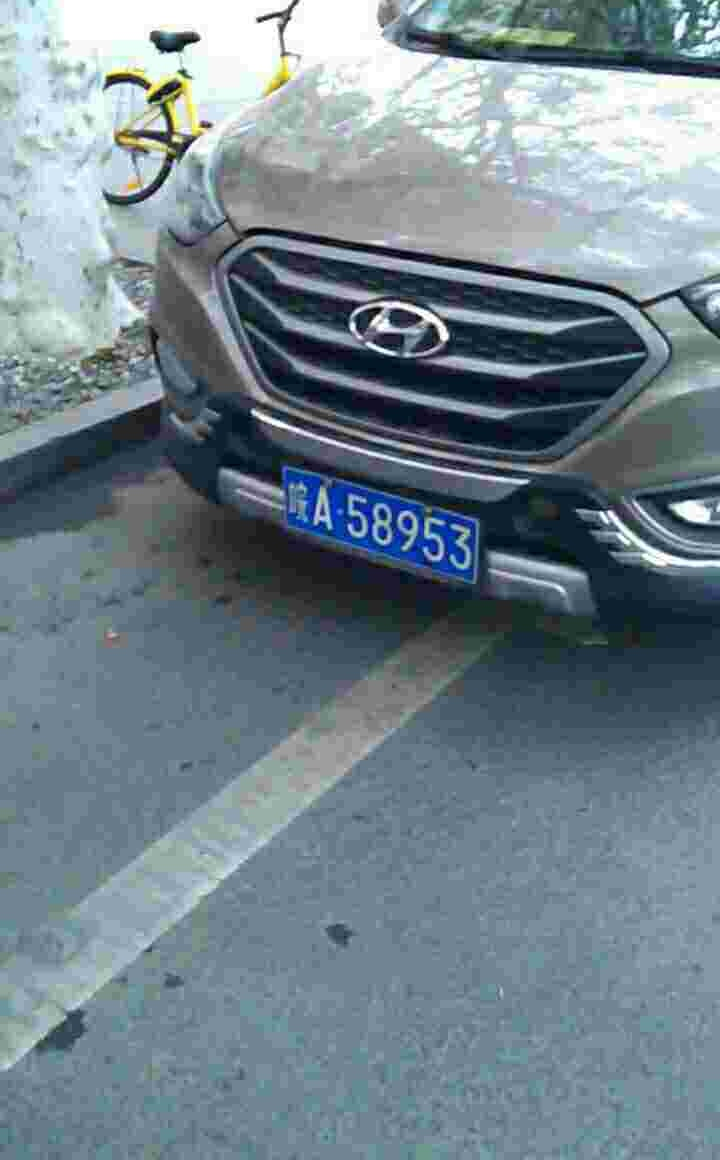license_plate: (271, 458, 479, 585)
